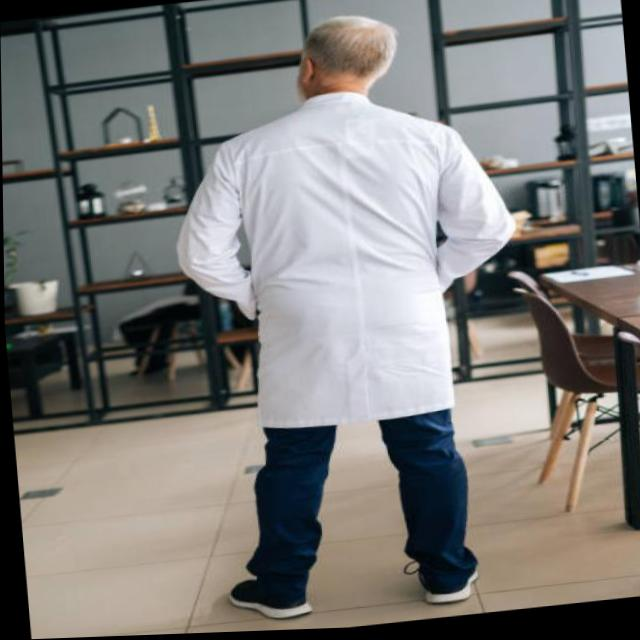no helmet: (275, 4, 423, 123)
